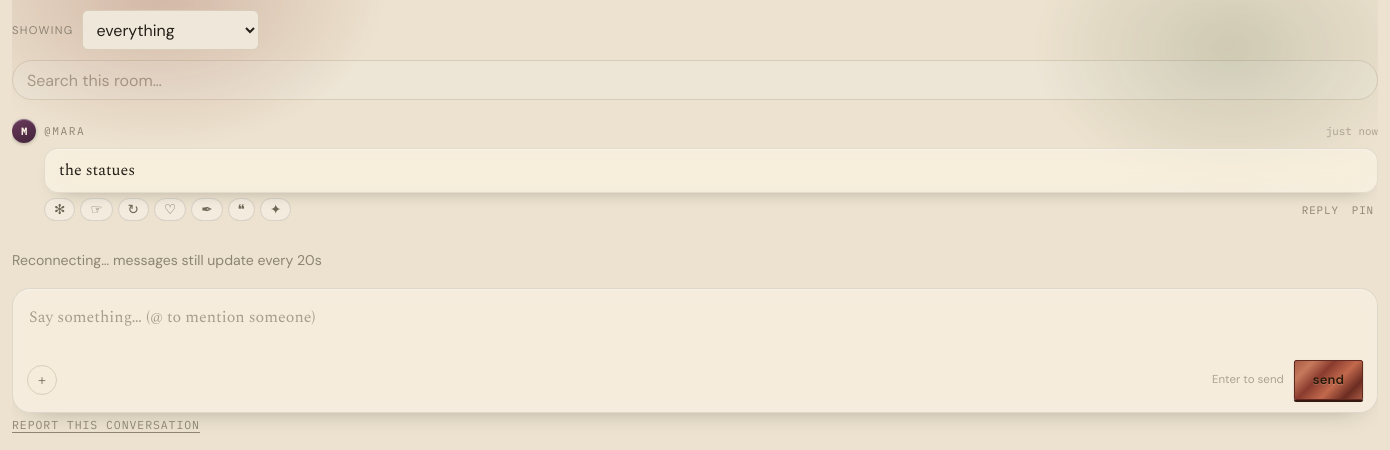
Test: CollectionChat — one room per collection [#6] › offers a matching member and inserts the full handle on Enter
In the text box named "your message": (695, 324) [27,301,1363,347], type "hey @mar"
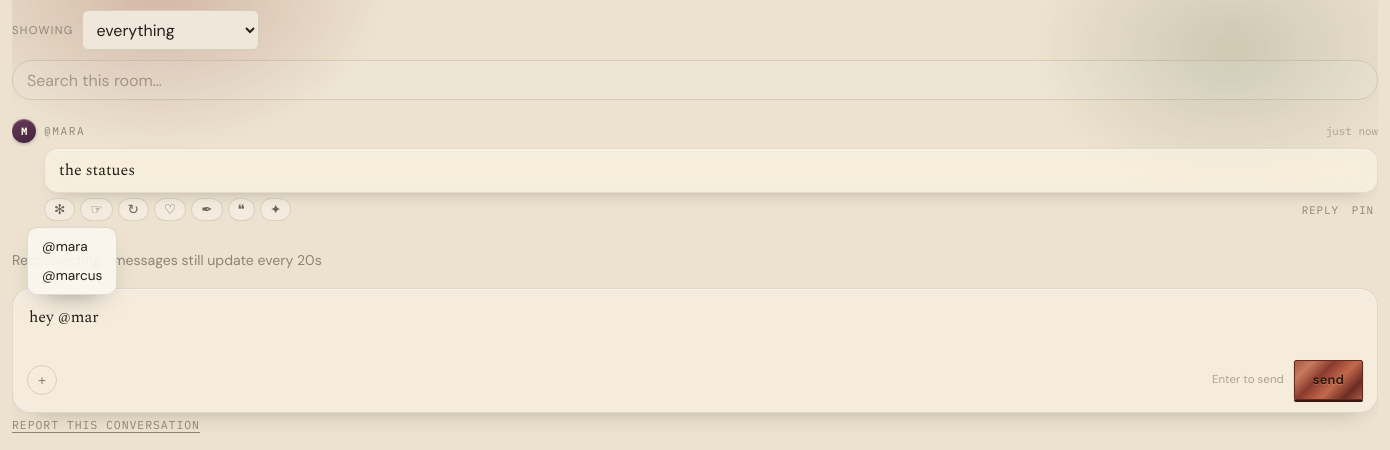
Expected: the button "@mara" is shown, [32,232,112,261]
Expected: the button "@marcus" is shown, [32,261,112,290]
Press Enter
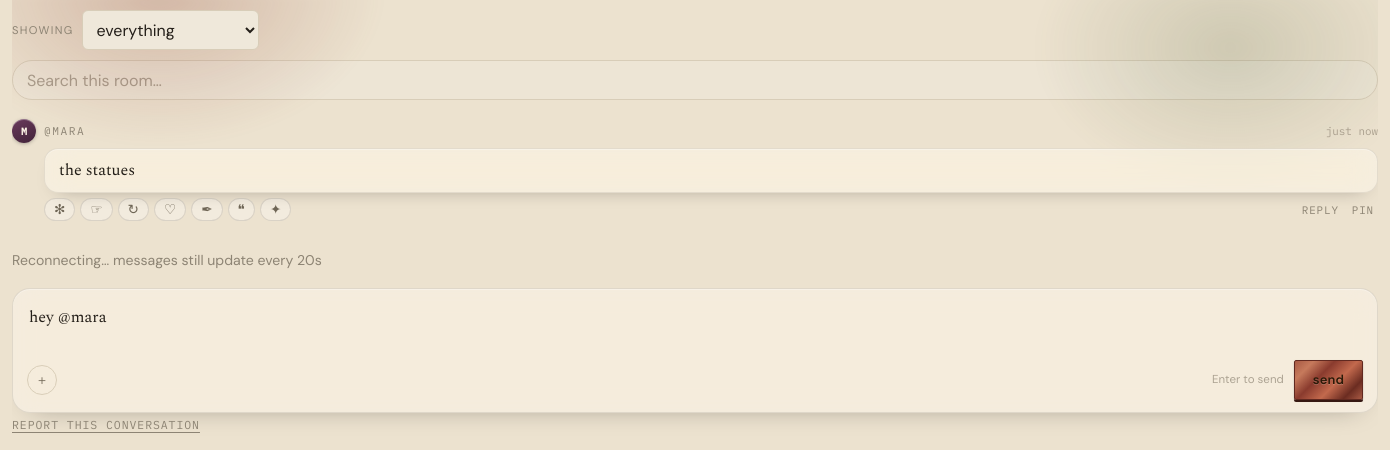
Expected: the text box named "your message" holds "hey @mara ", [27,301,1363,347]
